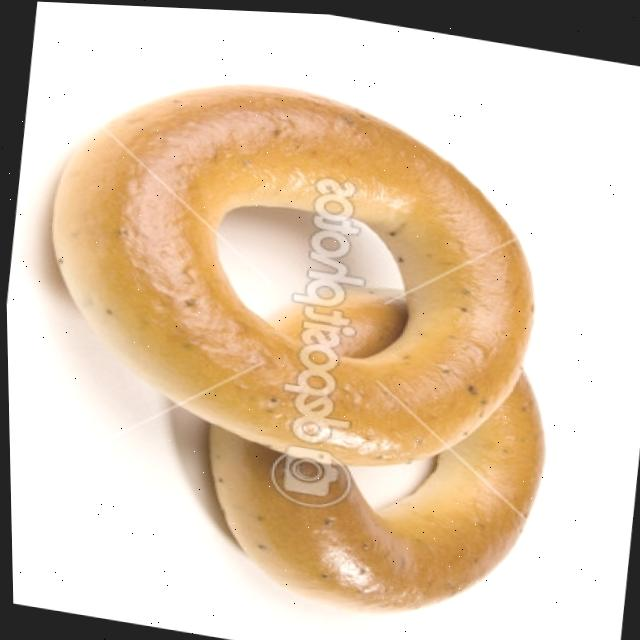面包点心: (0, 4, 640, 640)
